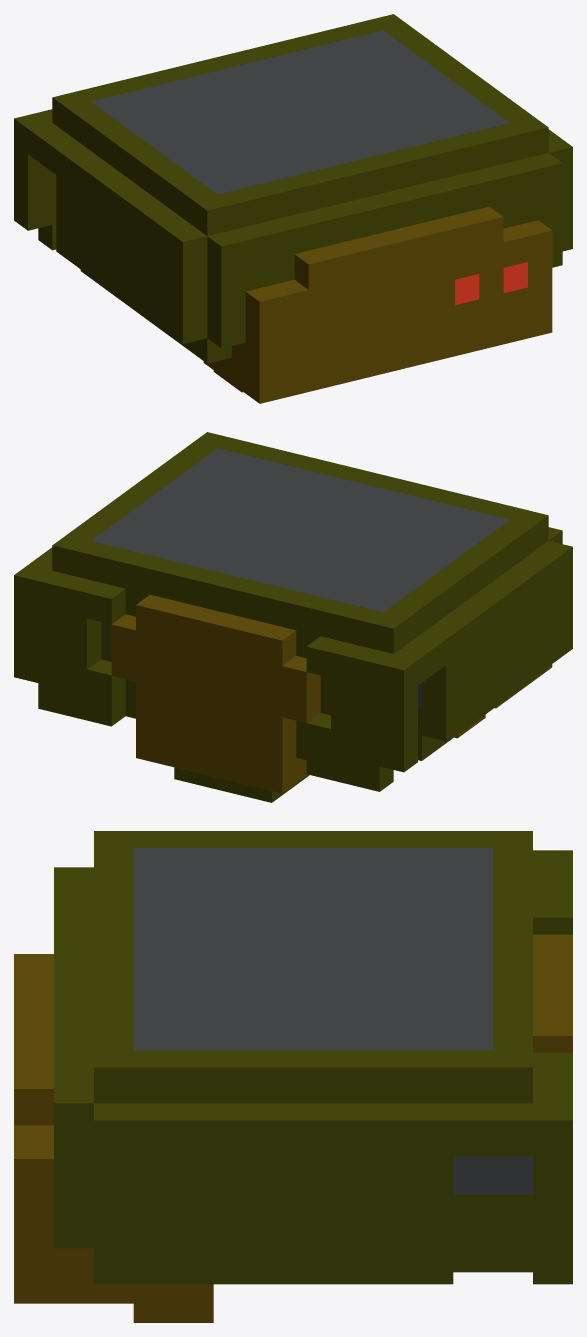
The model's file is Body-7.obj.
The picture shows the model from 3 angles, top to bottom: view 1: azimuth 30°, elevation 25°; view 2: azimuth 150°, elevation 25°; view 3: azimuth 270°, elevation 25°; orthographic projection. The views are drawn at different scales.
Bounding box in the file's own units: 1.6 × 0.8 × 1.4.
1 material, 1 textured.
